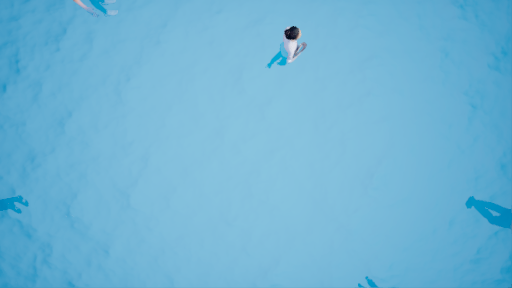person: (264, 20, 310, 71)
